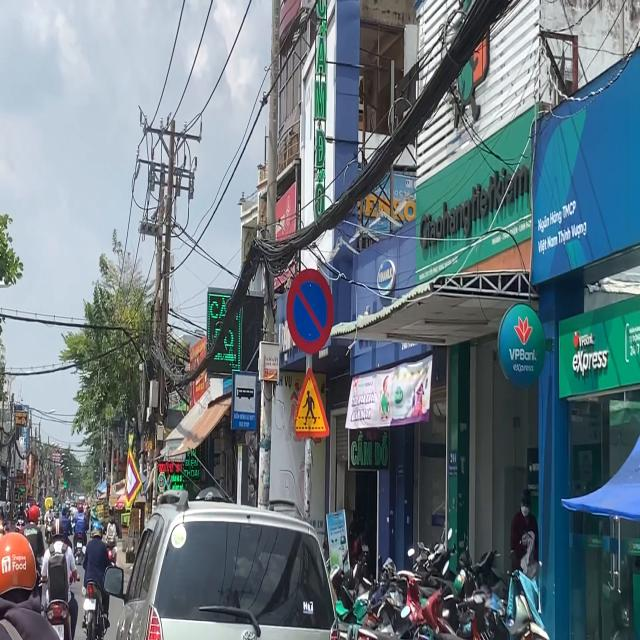Ben xe buyt: (231, 366, 257, 431)
Cam do: (286, 266, 335, 354)
Nguoi di bo cat ngang: (291, 364, 332, 443)
